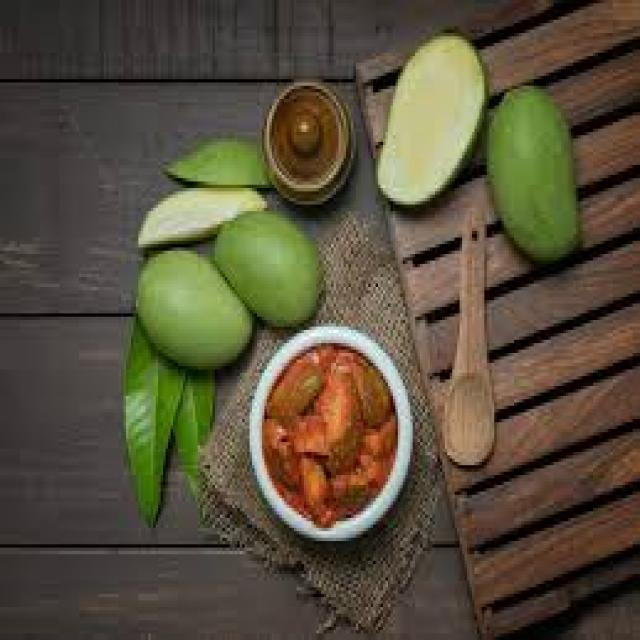mango: (376, 30, 494, 211), (485, 86, 583, 259), (131, 253, 258, 367), (216, 211, 318, 325)
